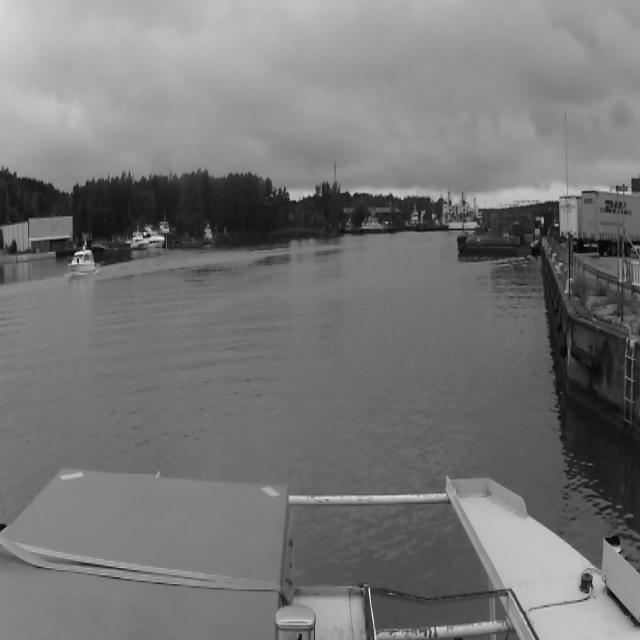ship: (444, 191, 482, 229), (355, 212, 395, 236), (68, 249, 96, 275), (145, 227, 165, 249), (130, 230, 148, 248), (338, 218, 356, 234)
